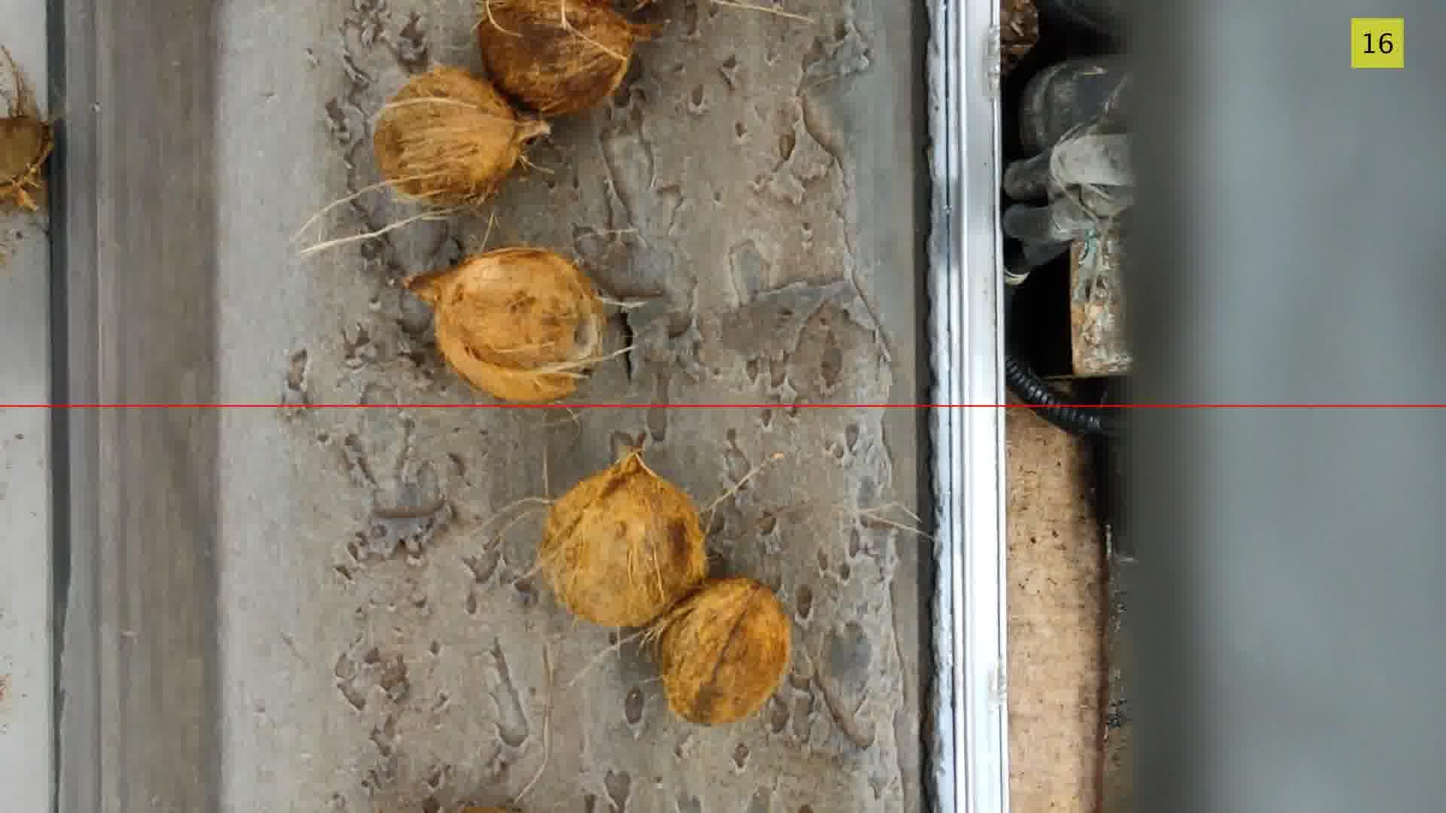Coconut: (405, 248, 605, 402), (538, 451, 706, 626), (374, 65, 525, 205), (651, 577, 791, 725), (477, 0, 652, 116), (0, 47, 53, 210)
